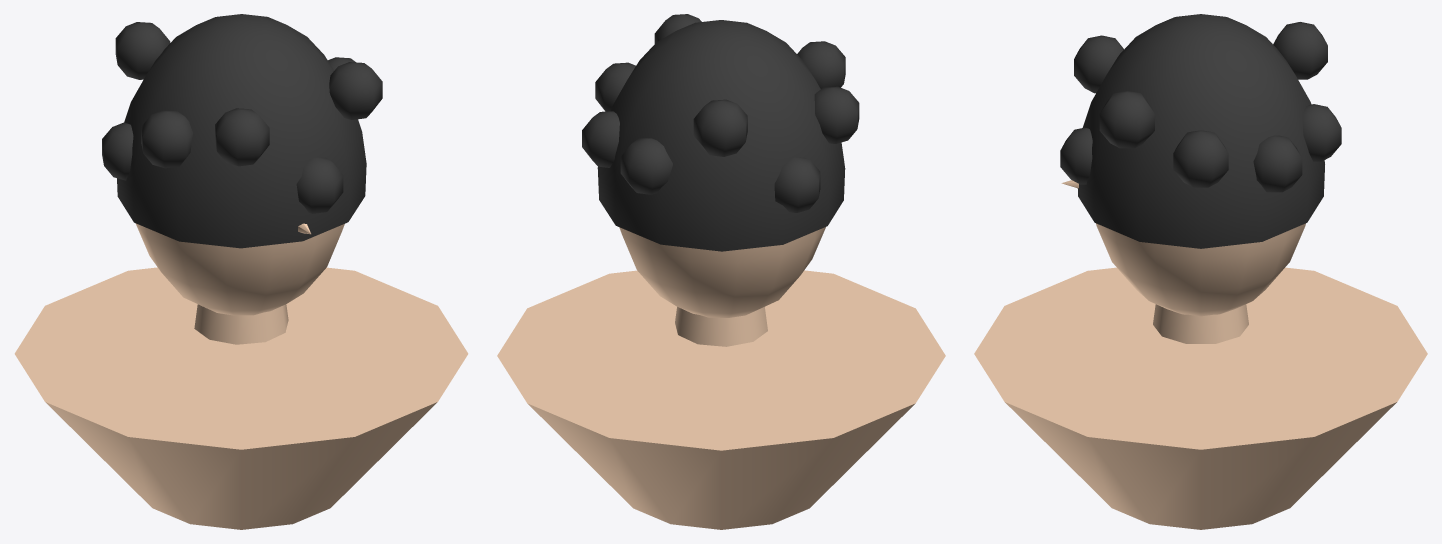
File: raw_003.glb
3 renders of one model, left to right at view 1: azimuth 30°, elevation 25°; view 2: azimuth 150°, elevation 25°; view 3: azimuth 270°, elevation 25°, orthographic.
Size of the model in its own units: 1.98 by 2.23 by 1.98.
